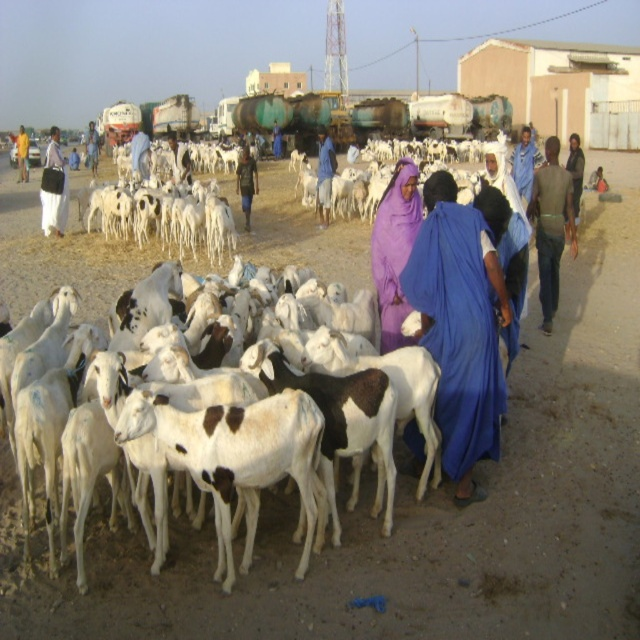Sheep: (0, 128, 487, 597)
